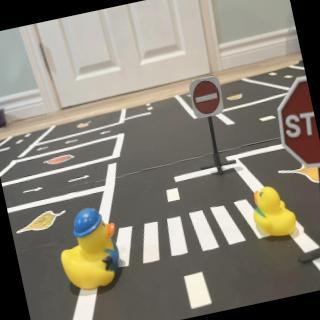duck_regular: (249, 183, 301, 245)
duck_specialty: (52, 204, 129, 297)
road_crosswalk: (110, 190, 279, 272)
road_oneway: (66, 173, 92, 186), (22, 184, 46, 197), (63, 137, 82, 146), (36, 144, 52, 153), (99, 129, 113, 138)
sign_noentry: (187, 75, 228, 123)
sign_stop: (270, 78, 320, 175)
